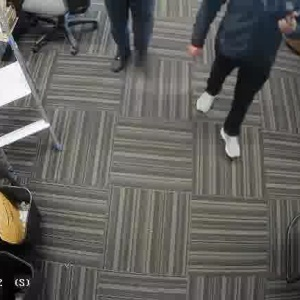person: (194, 0, 299, 159), (106, 0, 163, 74)
